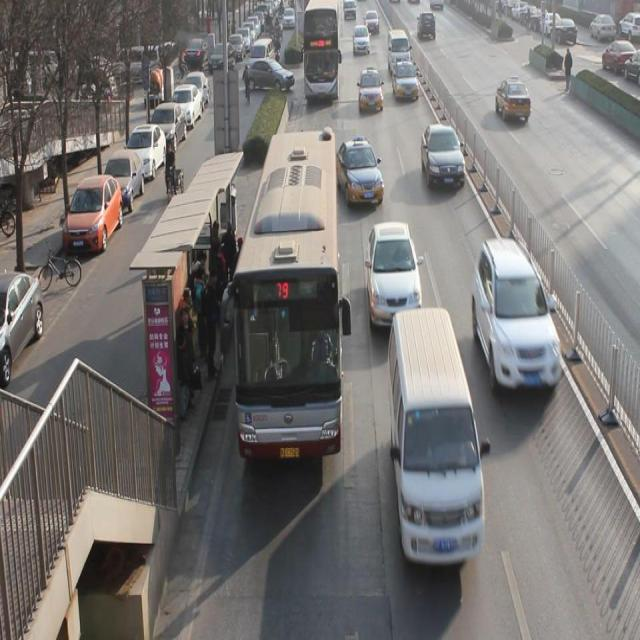car: (473, 241, 562, 404), (365, 222, 423, 329), (334, 136, 385, 207), (420, 124, 466, 189), (493, 78, 533, 125), (358, 68, 383, 110), (392, 63, 419, 101), (353, 27, 369, 52), (364, 15, 379, 34)
truck: (387, 316, 485, 566), (386, 30, 411, 73)
van: (232, 131, 342, 460), (304, 1, 340, 104)
